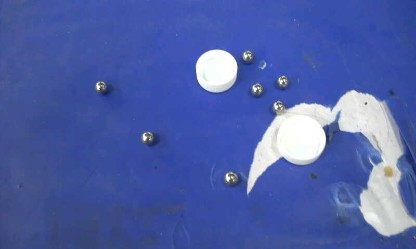ironball: (223, 171, 238, 186), (271, 99, 284, 115), (140, 131, 154, 145), (250, 82, 263, 97), (94, 80, 107, 94), (241, 49, 253, 63), (276, 74, 288, 88)
